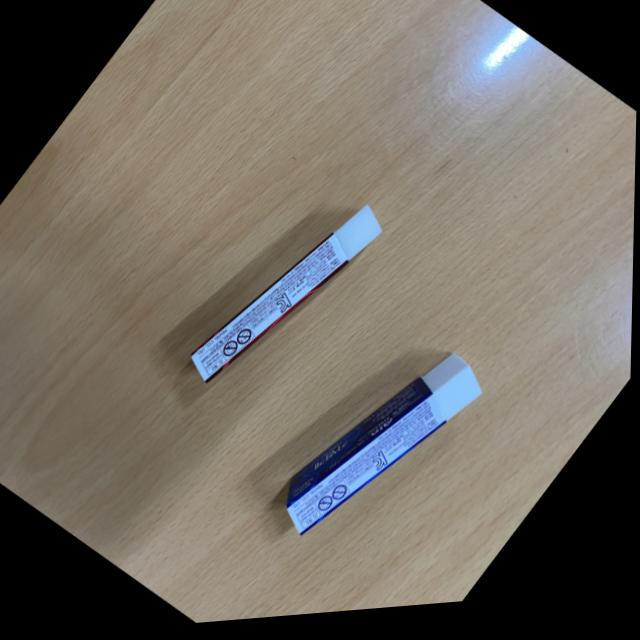blue: (263, 312, 505, 586)
red: (174, 170, 398, 429)
